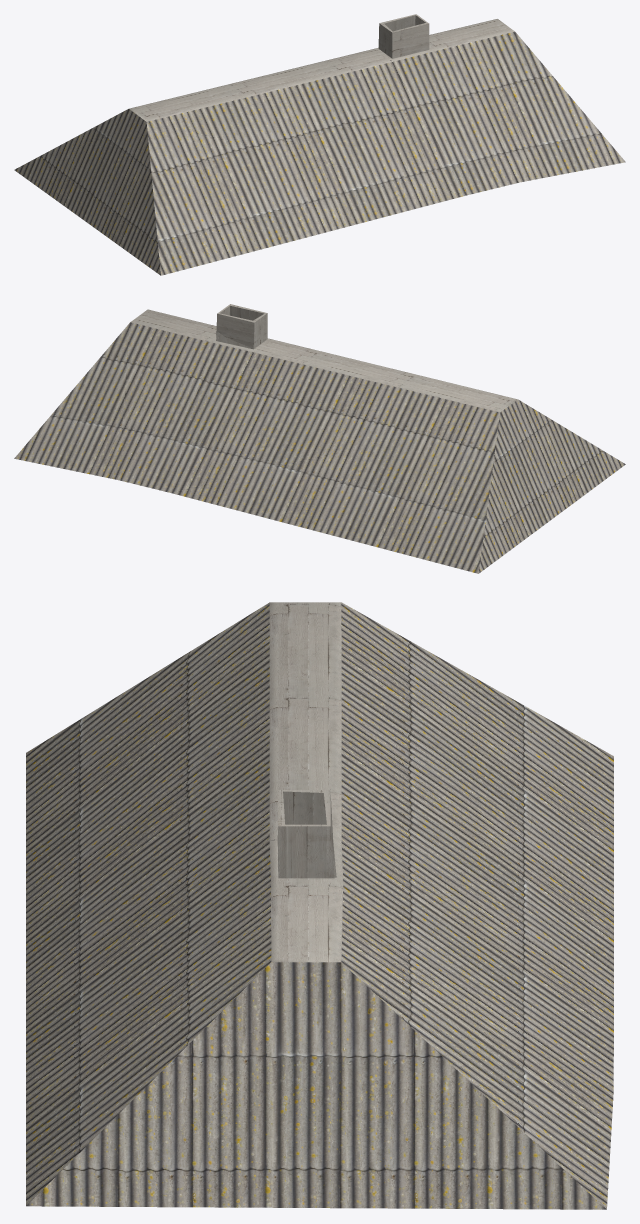
File: roof.FBX
3 renders of one model, top to bottom at view 1: azimuth 30°, elevation 25°; view 2: azimuth 150°, elevation 25°; view 3: azimuth 270°, elevation 25°, orthographic. The views are drawn at different scales.
Parts seen in each view (by area): view 1: roof; view 2: roof; view 3: roof.
Part boxes in pixels (box(x1,y1,x2,y2)): roof: box(14, 14, 625, 275); roof: box(14, 304, 625, 573); roof: box(26, 602, 613, 1209).
Size of the model in its own units: 793 by 207 by 434.
Materials: 2 (2 with a texture image).
